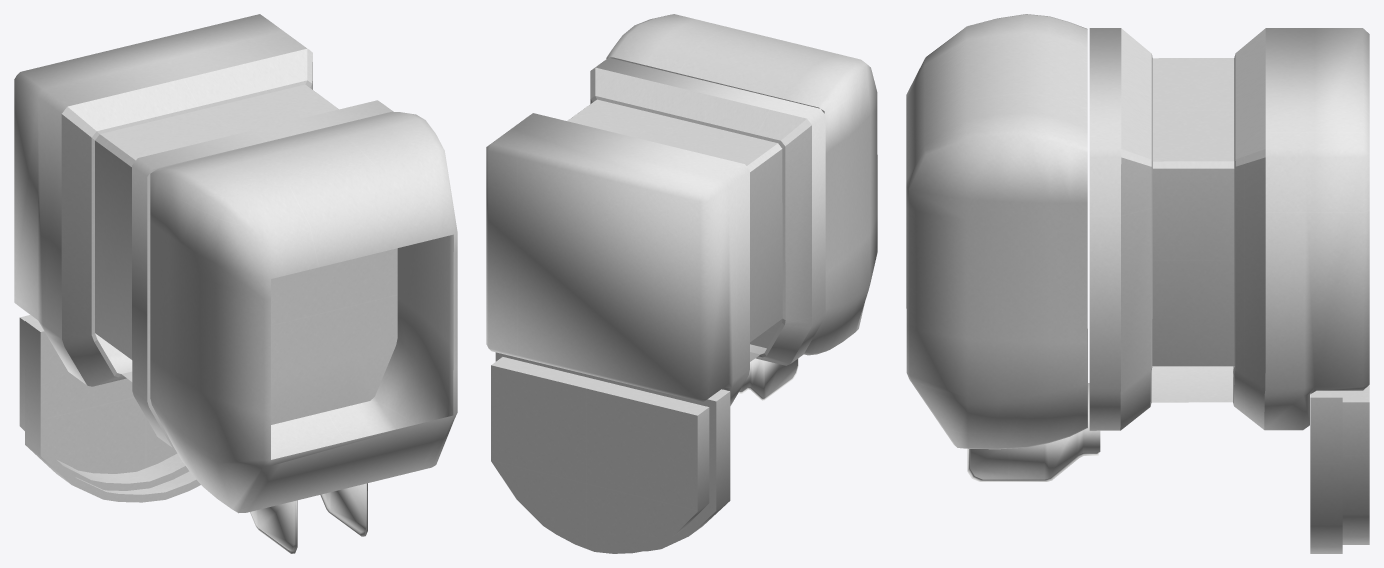
The model's file is CoffeeMachine_8_CoffeeMachine_8_0_GeomSubset_0.obj.
The picture shows the model from 3 angles, left to right: view 1: azimuth 30°, elevation 25°; view 2: azimuth 150°, elevation 25°; view 3: azimuth 270°, elevation 25°; orthographic projection. The views are drawn at different scales.
Visible parts, largest first — view 1: CoffeeMachine_8_CoffeeMachine_8_0_GeomSubset_0; view 2: CoffeeMachine_8_CoffeeMachine_8_0_GeomSubset_0; view 3: CoffeeMachine_8_CoffeeMachine_8_0_GeomSubset_0.
Part boxes in pixels (<box>): CoffeeMachine_8_CoffeeMachine_8_0_GeomSubset_0: <box>14,14,457,553</box>; CoffeeMachine_8_CoffeeMachine_8_0_GeomSubset_0: <box>486,14,877,553</box>; CoffeeMachine_8_CoffeeMachine_8_0_GeomSubset_0: <box>906,14,1369,553</box>.
Bounding box in the file's own units: 0.2808 × 0.4847 × 0.4367.
